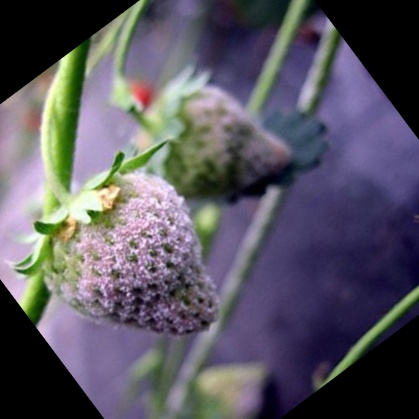Powdery_Fruit: (36, 115, 194, 305), (148, 90, 309, 229)
